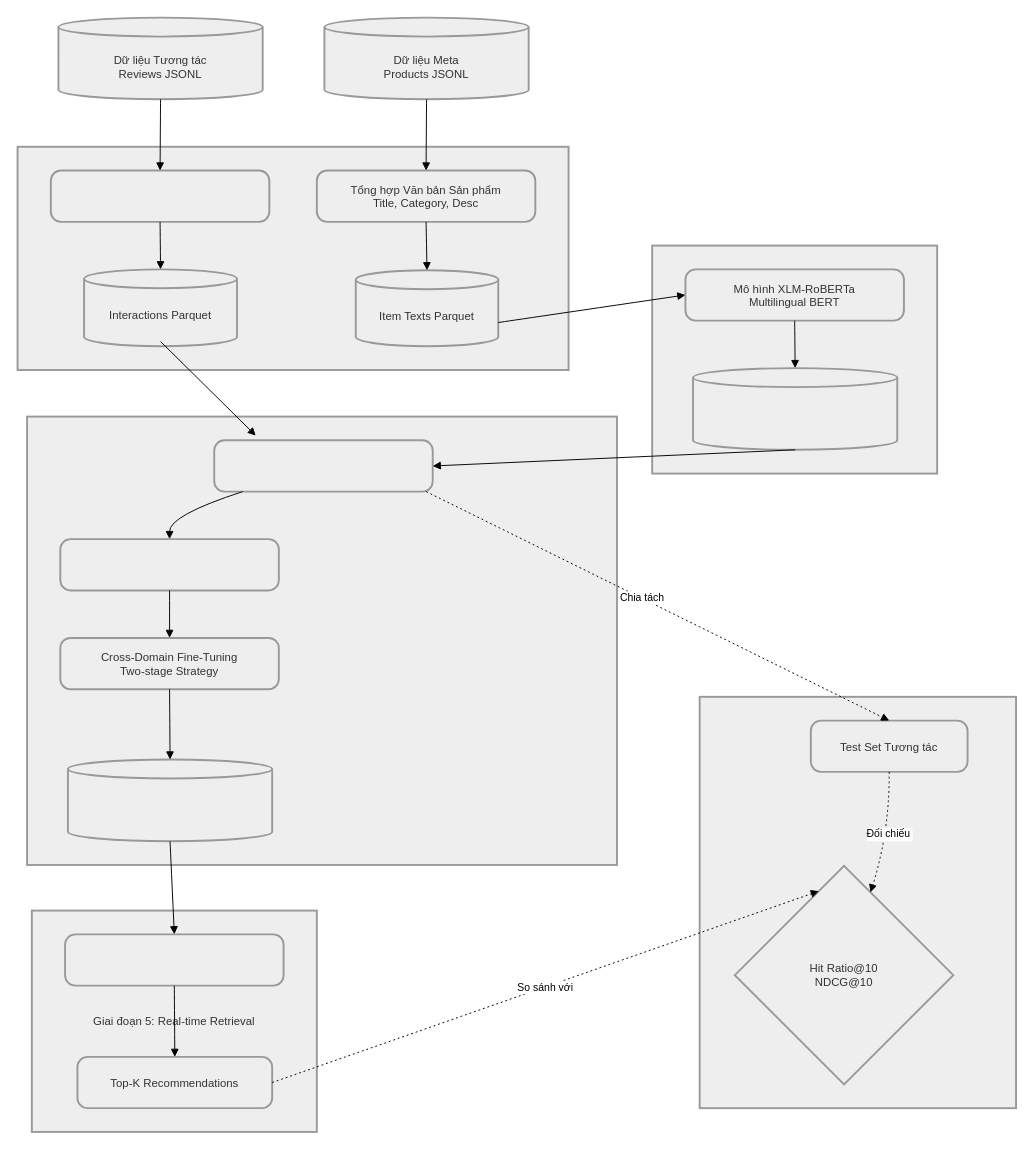
Image size: 1033x1149. Some labels were removed from this diagram. The centre of each missing label's shape, as x and y in pixels:
"FAISS Vector Database Indexing" goes at pixel 174 959.
"Final Node Embeddings 32-D" goes at pixel 169 800.
"Item Embeddings 768-D Numpy" goes at pixel 795 408.
"Tiền huấn luyện Amazon HGNN + BPR Loss" goes at pixel 169 564.
"Xây dựng Đồ thị PyG HeteroData" goes at pixel 323 465.
"Xử lý & Làm sạch Tương tác" goes at pixel 159 195.
